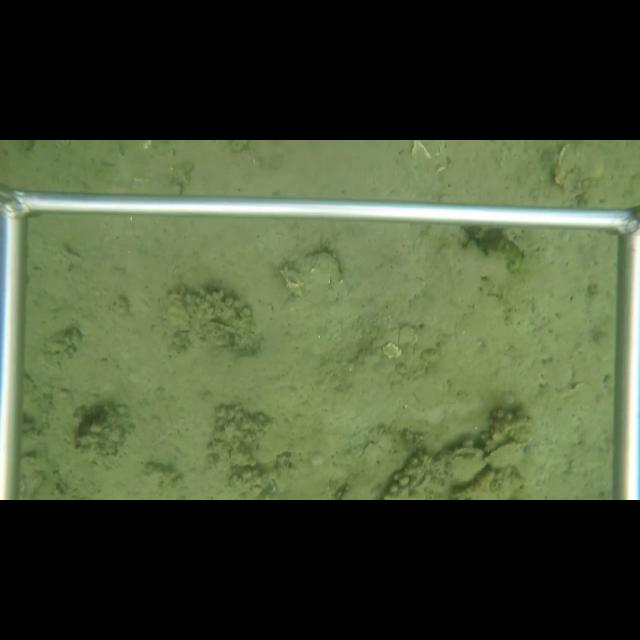Oyster-Closed: (276, 247, 345, 301), (552, 141, 610, 189), (482, 439, 526, 470)
Oyster-Open: (442, 446, 484, 487), (205, 318, 243, 339)
